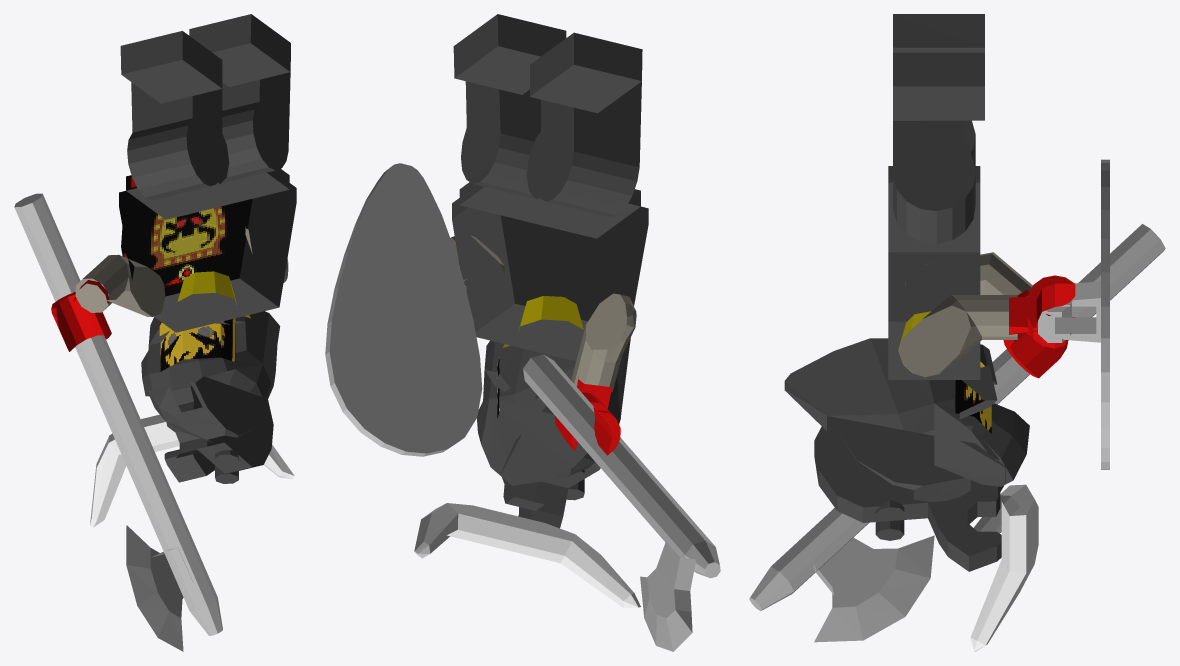
File: minifigcedricbull04.glb
3 views of the same model, side by side, from view 1: azimuth 30°, elevation 25°; view 2: azimuth 150°, elevation 25°; view 3: azimuth 270°, elevation 25° (orthographic). The views are drawn at different scales.
Parts seen in each view (by area): view 1: 024_shape11, 033_shape17, 022_shape10, 019_shape8, 015_shape5, 021_shape9, 017_shape7, 029_shape15, 012_shape3, 026_shape13, 035_shape19; view 2: 042_shape23, 022_shape10, 024_shape11, 033_shape17, 019_shape8, 026_shape13, 015_shape5, 021_shape9, 017_shape7, 012_shape3, 029_shape15, 035_shape19; view 3: 024_shape11, 033_shape17, 015_shape5, 022_shape10, 017_shape7, 038_shape21, 026_shape13, 042_shape23, 021_shape9, 044_shape19, 012_shape3, 035_shape19 (+1 smaller).
Boxes of the visible parts, x1=… form: 024_shape11: x1=141, y1=271, x2=280, y2=483; 033_shape17: x1=14, y1=193, x2=222, y2=651; 022_shape10: x1=119, y1=183, x2=296, y2=332; 019_shape8: x1=127, y1=69, x2=222, y2=200; 015_shape5: x1=216, y1=50, x2=290, y2=184; 021_shape9: x1=120, y1=31, x2=222, y2=103; 017_shape7: x1=189, y1=14, x2=290, y2=86; 029_shape15: x1=75, y1=254, x2=165, y2=316; 012_shape3: x1=126, y1=134, x2=289, y2=219; 026_shape13: x1=90, y1=414, x2=294, y2=527; 035_shape19: x1=51, y1=280, x2=111, y2=351; 042_shape23: x1=325, y1=163, x2=482, y2=456; 022_shape10: x1=452, y1=198, x2=648, y2=361; 024_shape11: x1=477, y1=296, x2=630, y2=528; 033_shape17: x1=523, y1=354, x2=720, y2=651; 019_shape8: x1=534, y1=68, x2=641, y2=217; 026_shape13: x1=414, y1=503, x2=640, y2=607; 015_shape5: x1=461, y1=51, x2=540, y2=199; 021_shape9: x1=530, y1=32, x2=642, y2=113; 017_shape7: x1=453, y1=14, x2=566, y2=94; 012_shape3: x1=459, y1=132, x2=640, y2=238; 029_shape15: x1=571, y1=293, x2=636, y2=392; 035_shape19: x1=555, y1=379, x2=620, y2=455; 024_shape11: x1=784, y1=311, x2=1029, y2=571; 033_shape17: x1=749, y1=224, x2=1165, y2=642; 015_shape5: x1=893, y1=86, x2=975, y2=243; 022_shape10: x1=888, y1=252, x2=980, y2=379; 017_shape7: x1=893, y1=52, x2=984, y2=120; 038_shape21: x1=898, y1=295, x2=1017, y2=377; 026_shape13: x1=970, y1=484, x2=1038, y2=651; 042_shape23: x1=1038, y1=159, x2=1109, y2=469; 021_shape9: x1=893, y1=14, x2=984, y2=52; 044_shape19: x1=1009, y1=275, x2=1075, y2=348; 012_shape3: x1=888, y1=143, x2=980, y2=252; 035_shape19: x1=1003, y1=289, x2=1067, y2=378.
Size of the model in its own units: 2.66 by 6.1 by 3.63.
10 materials, 4 textured.
